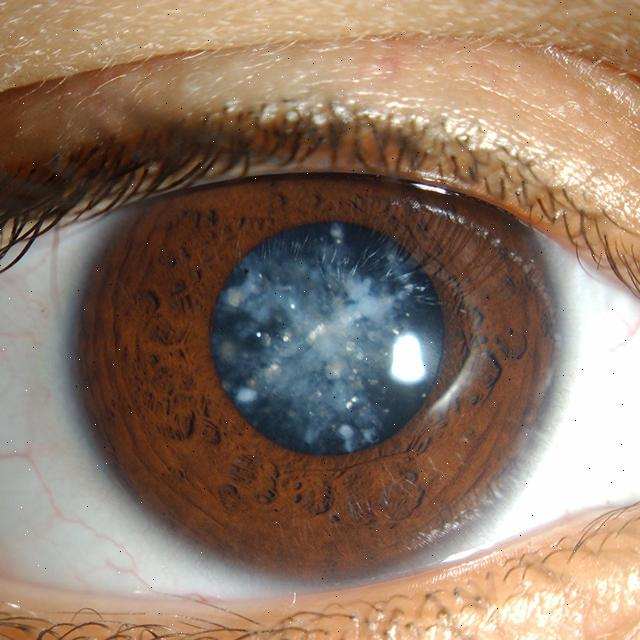Cataract: (79, 98, 566, 592)
